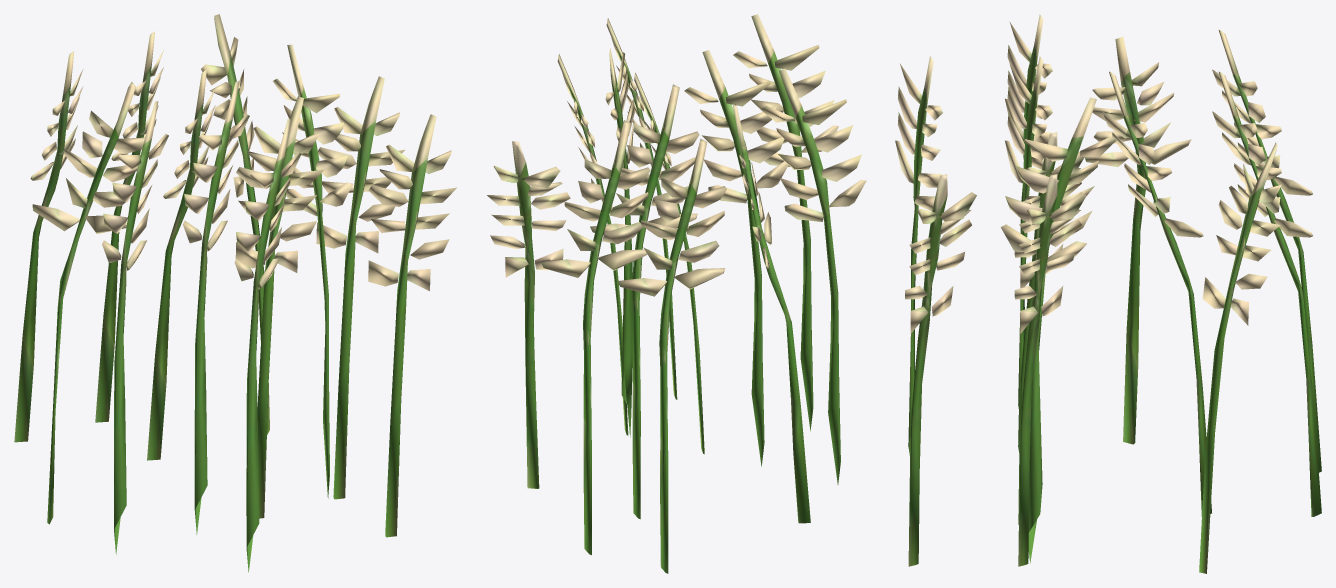
Rendered from wheat.glb.
3 views of the same model, side by side, from view 1: azimuth 30°, elevation 25°; view 2: azimuth 150°, elevation 25°; view 3: azimuth 270°, elevation 25° (orthographic). The views are drawn at different scales.
Parts seen in each view (by area): view 1: Mesh_0; view 2: Mesh_0; view 3: Mesh_0.
Part boxes in pixels (<box>): Mesh_0: <box>14,14,456,572</box>; Mesh_0: <box>487,14,866,573</box>; Mesh_0: <box>895,14,1321,573</box>.
Size of the model in its own units: 0.958 by 1.29 by 1.08.
1 material, 1 textured.
